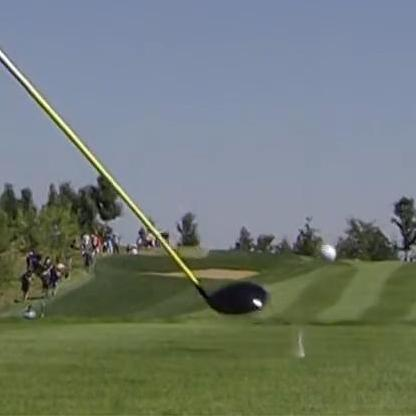golfball: (316, 242, 336, 263)
